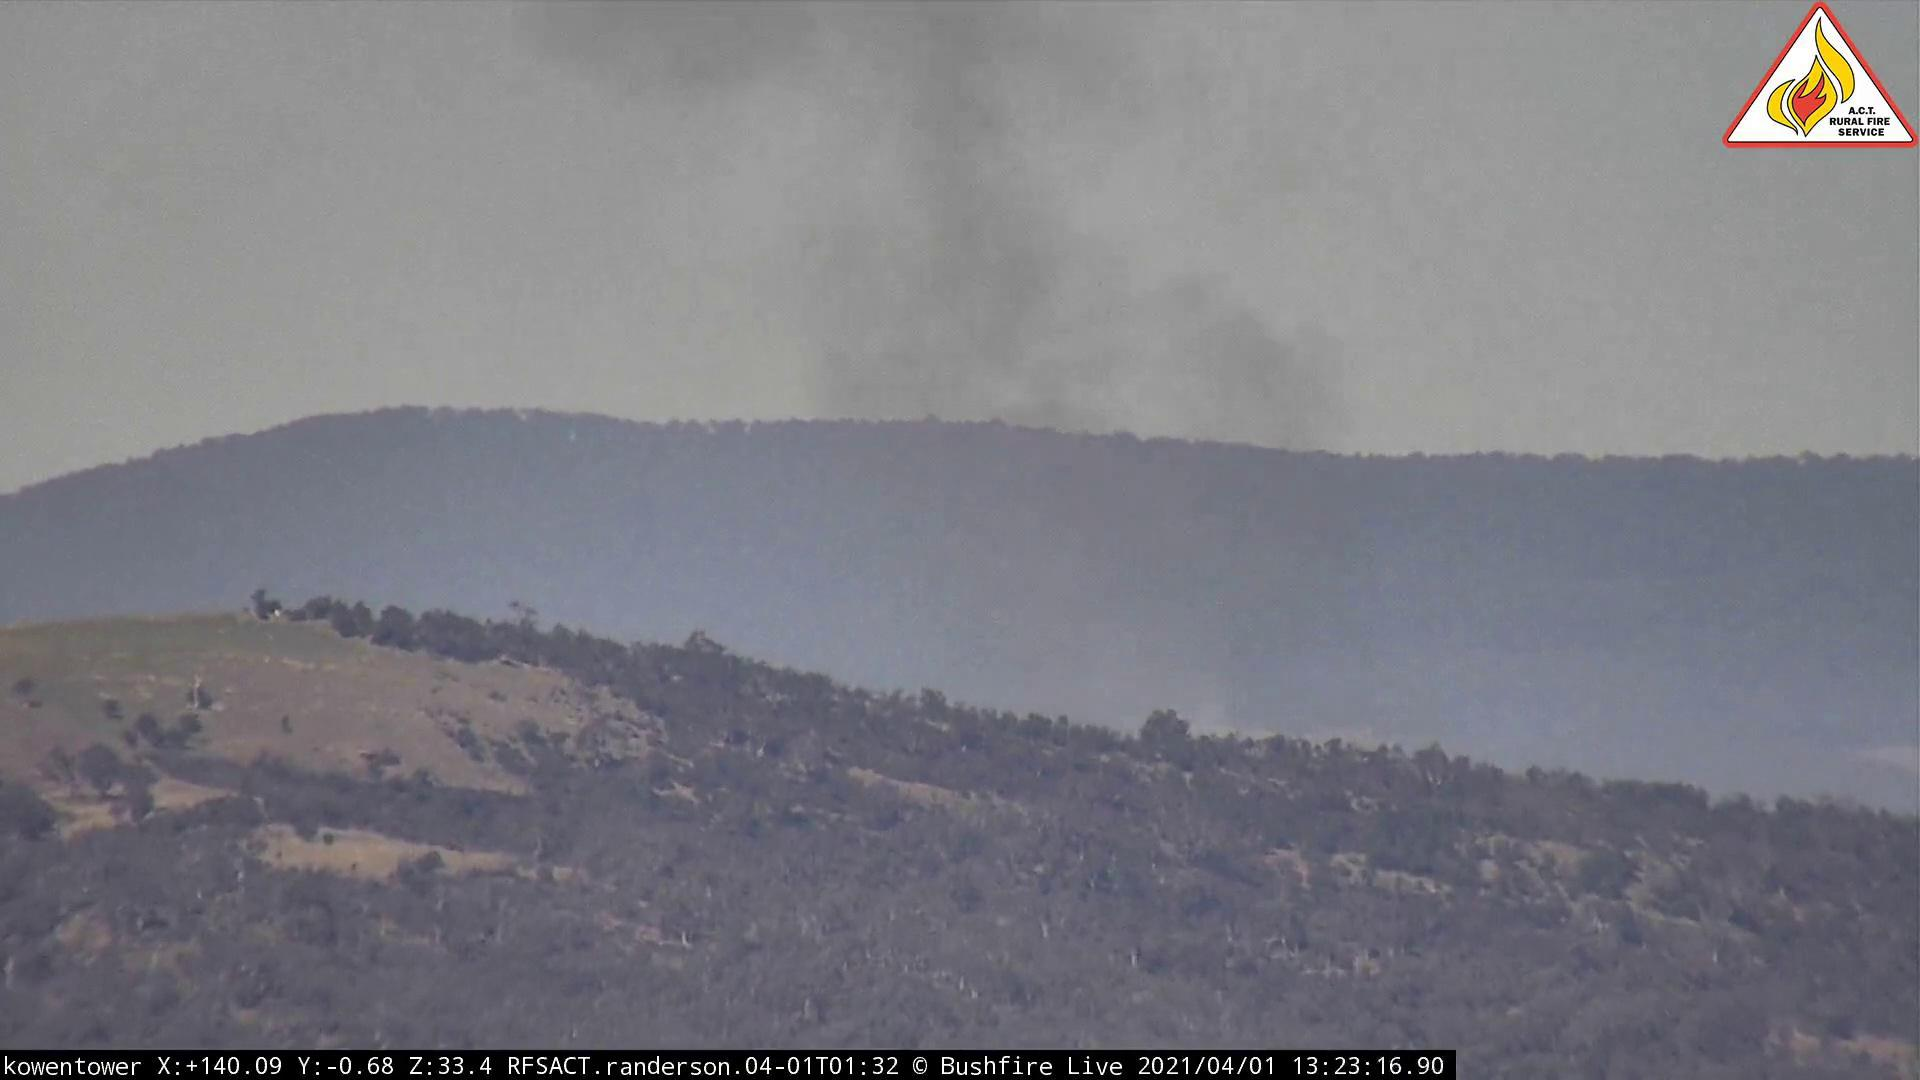instance_salient_object: (489, 3, 1400, 741)
